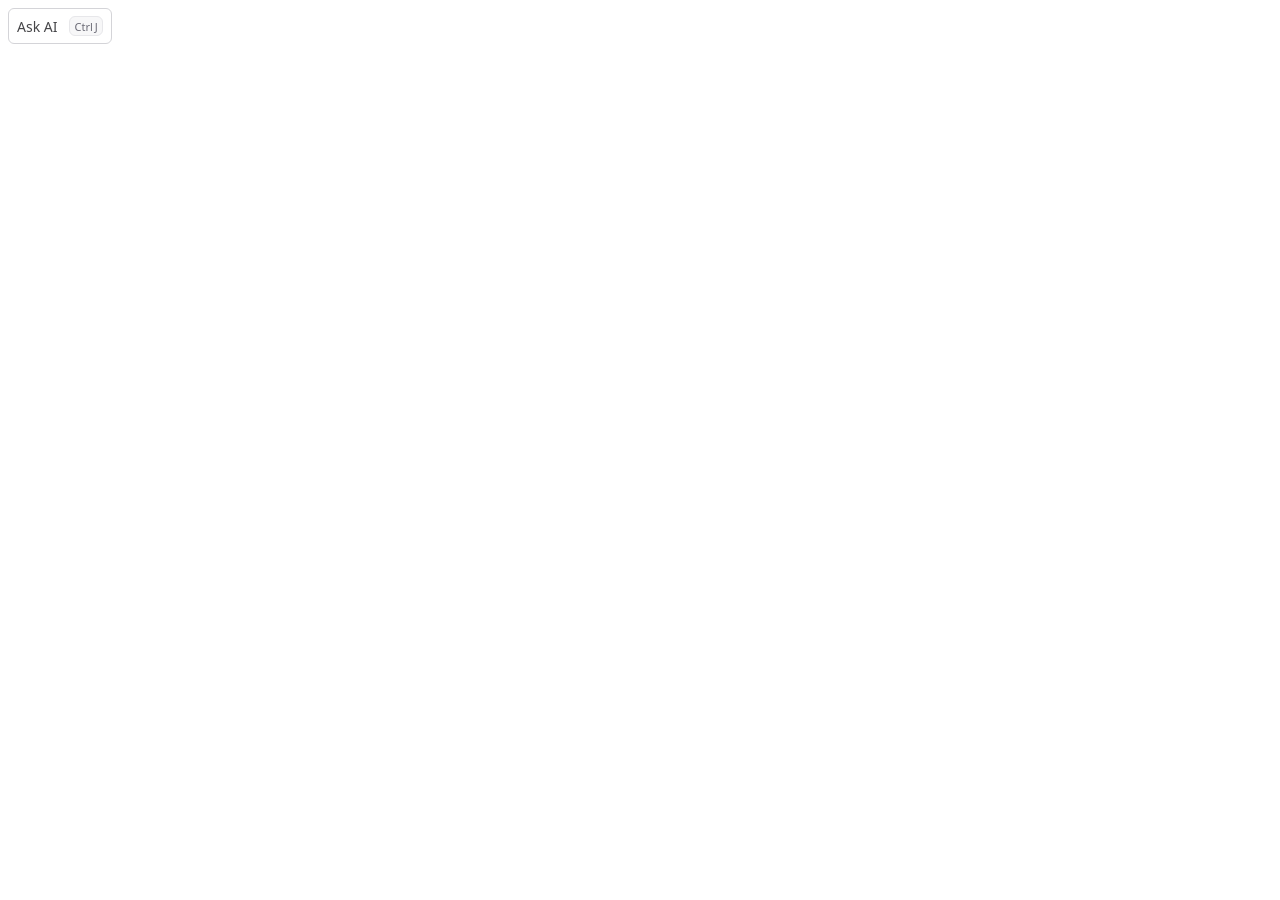
Test: shows tool progress, stops, and retries the latest answer in place
The width and height of the screenshot is (1280, 900).
Later steps or results of the test are not shown.
Click the button "Ask AI Ctrl J" at coordinates (60, 26), box [8,8,112,44]
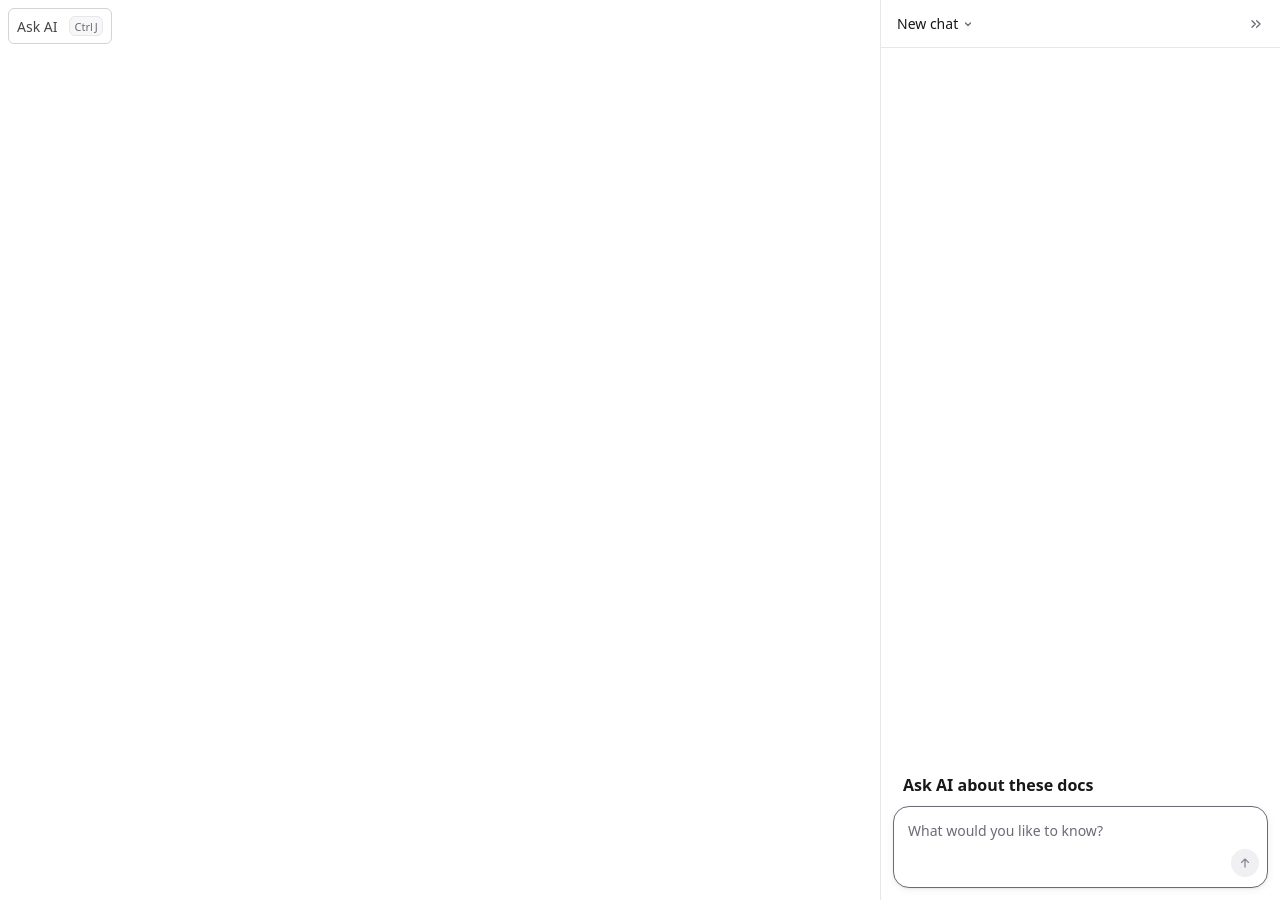
Type keys "What is the margin?{Enter}"
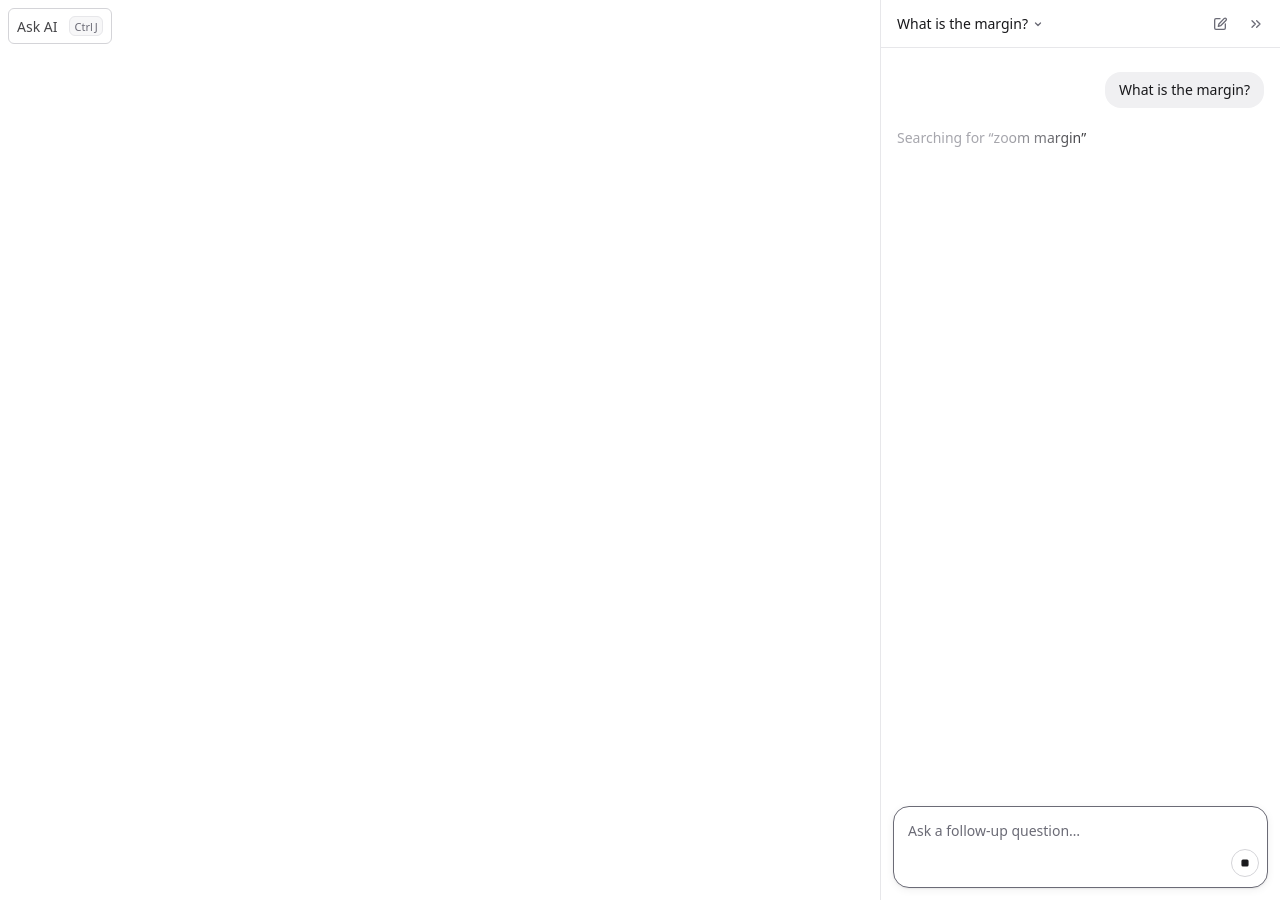
Now the text "Searching for “zoom margin”" is shown, box [897,128,1086,147]
Click the button named "Stop response" at coordinates (1245, 863), box [1231,849,1259,877]
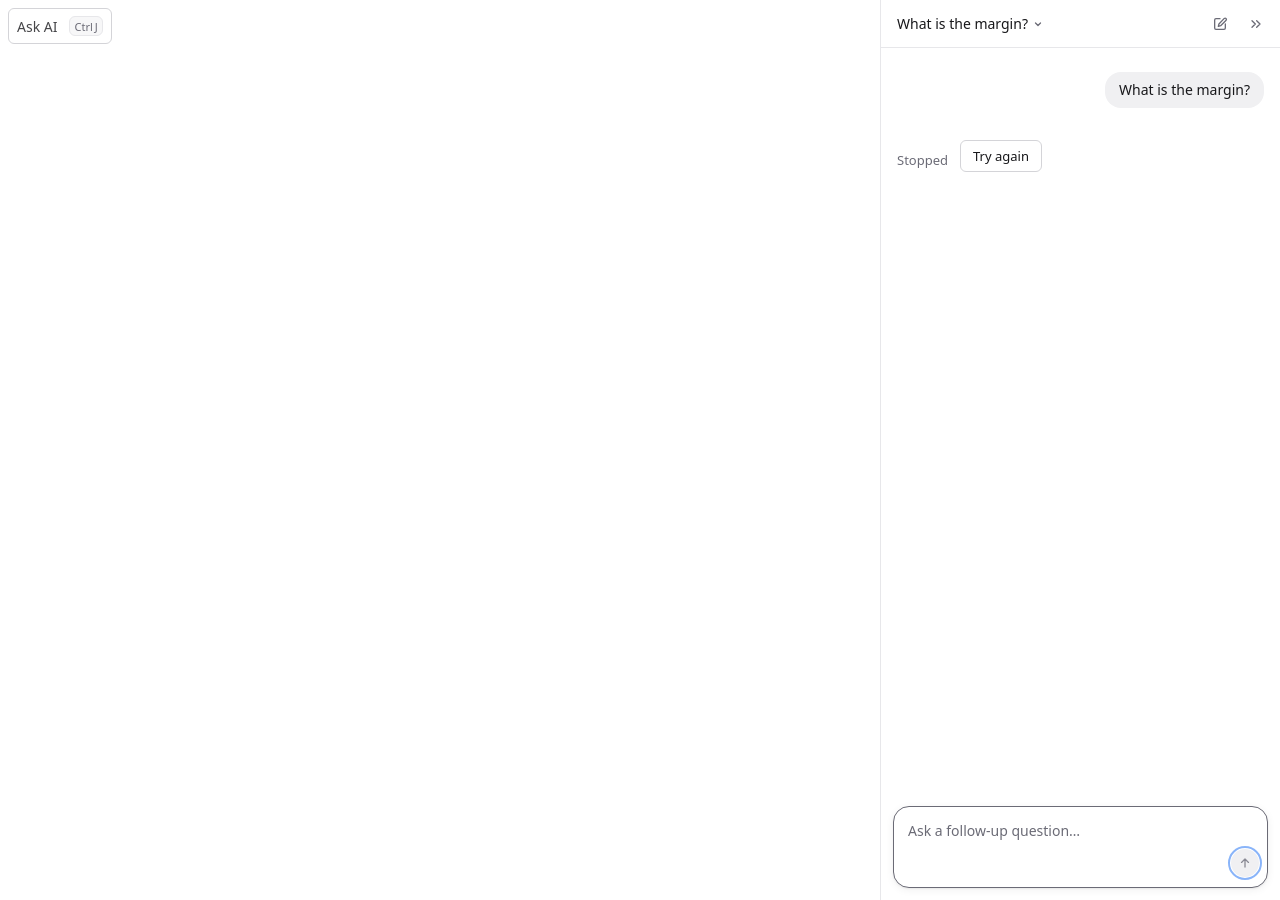
Now the button named "Send question" is shown, box [1231,849,1259,877]
